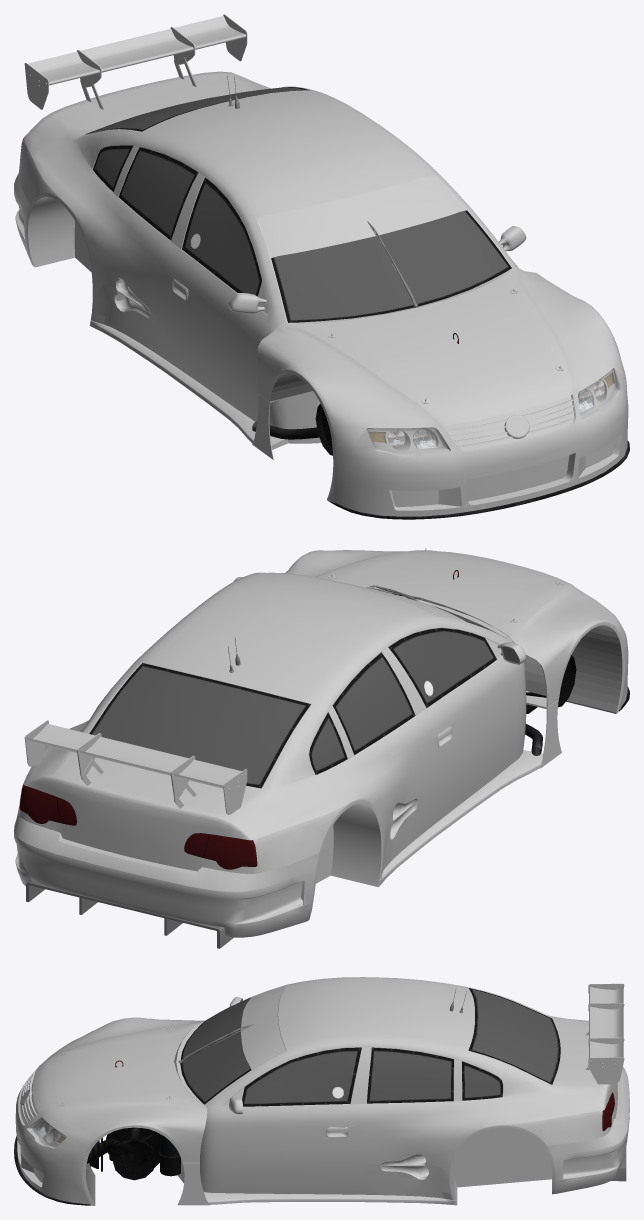
The model's file is pass.FBX.
3 views of the same model, one above another, from view 1: azimuth 30°, elevation 25°; view 2: azimuth 150°, elevation 25°; view 3: azimuth 270°, elevation 25° (orthographic). The views are drawn at different scales.
Visible parts, largest first — view 1: Pass_Carbody, Pass_Hood, Pass_Wing; view 2: Pass_Carbody, Pass_Hood, Pass_Wing, Susp_R; view 3: Pass_Carbody, Pass_Hood, Pass_Wing, Susp_L.
Boxes of the visible parts, <box> form: Pass_Carbody: <box>14,71,629,519</box>; Pass_Hood: <box>257,267,628,516</box>; Pass_Wing: <box>24,14,247,109</box>; Pass_Carbody: <box>14,570,629,948</box>; Pass_Hood: <box>285,548,628,713</box>; Pass_Wing: <box>24,720,247,815</box>; Susp_R: <box>526,655,576,707</box>; Pass_Carbody: <box>14,977,629,1205</box>; Pass_Hood: <box>15,1017,207,1205</box>; Pass_Wing: <box>585,983,624,1084</box>; Susp_L: <box>112,1127,156,1180</box>.
Size of what is drawn, in the model's own units: 188 by 132 by 448.
